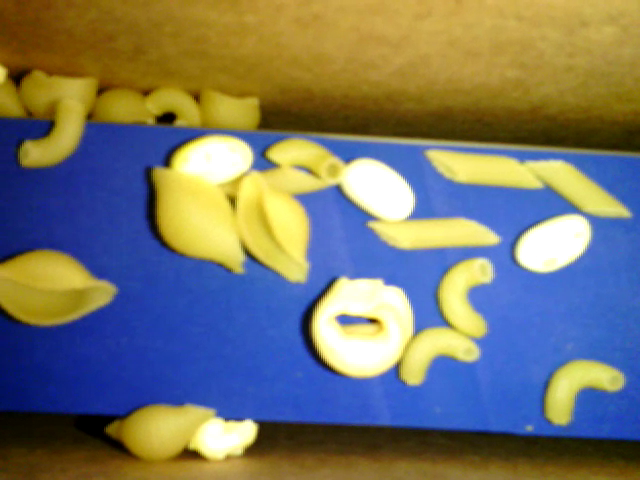elbow: (544, 357, 624, 426), (399, 327, 479, 387), (435, 256, 493, 338), (19, 100, 84, 167), (264, 137, 344, 182), (147, 87, 201, 126)
penne: (529, 159, 631, 220), (424, 148, 543, 191), (370, 216, 501, 249), (220, 168, 337, 196)
shell: (149, 167, 248, 276), (1, 247, 117, 327), (237, 170, 311, 284), (105, 402, 217, 463), (19, 71, 96, 118), (199, 87, 260, 129), (89, 87, 153, 123)
tortellini: (308, 275, 414, 377)
